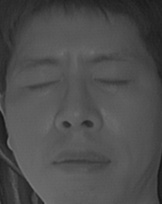blink: (89, 69, 135, 93), (23, 71, 62, 96)
mouth: (47, 143, 114, 177)
